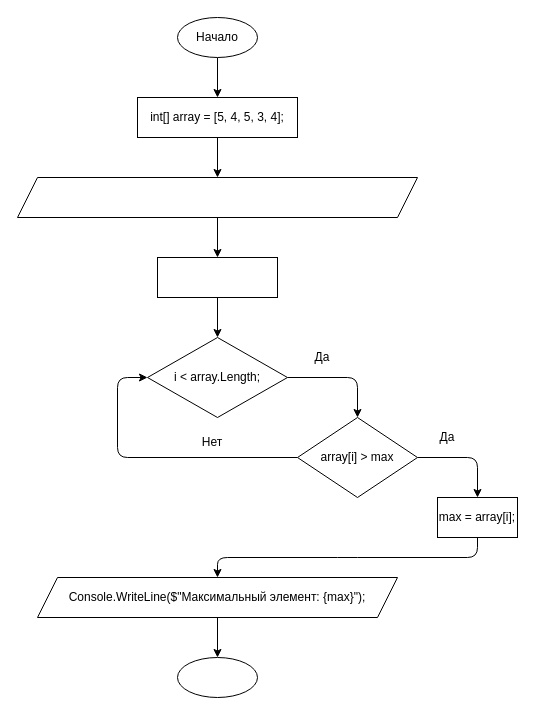
This 535x715 diagram has some shape labels left out. Each missing label, with the centre of its shape:
Console.WriteLine("Поиск максимального элемента массива");: (217,197)
int max = array[0]: (217,277)
Конец: (217,677)
